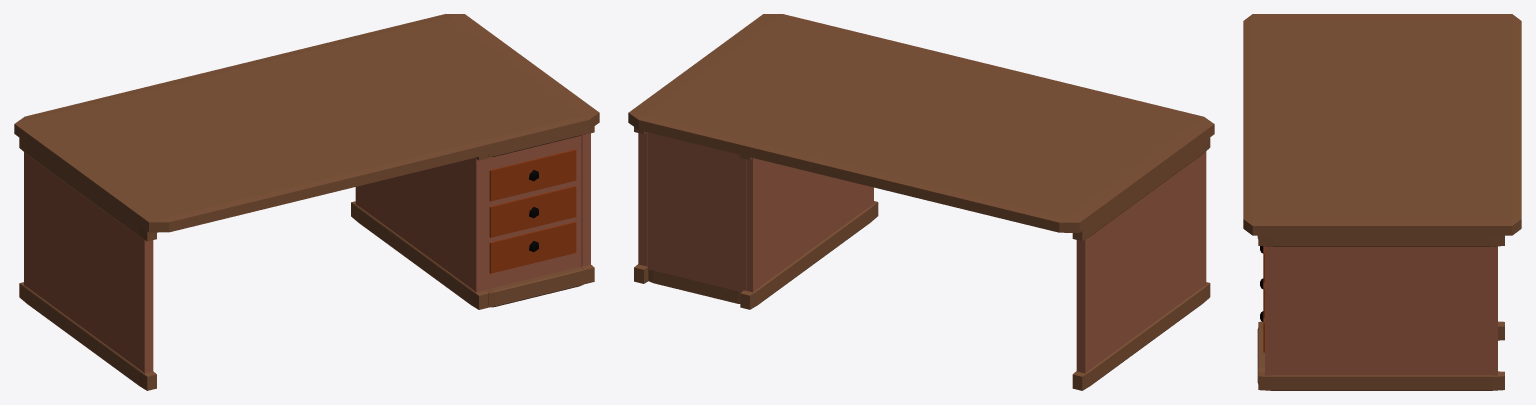
The model's file is LowPolyDesk.fbx.
The picture shows the model from 3 angles, left to right: view 1: azimuth 30°, elevation 25°; view 2: azimuth 150°, elevation 25°; view 3: azimuth 270°, elevation 25°; orthographic projection. The views are drawn at different scales.
Visible parts, largest first — view 1: Cube; view 2: Cube; view 3: Cube.
Boxes of the visible parts, x1,y1,x2,y2 form: Cube: (14,14,599,390); Cube: (628,14,1214,390); Cube: (1243,14,1521,390).
Bounding box in the file's own units: 399 × 146 × 221.
